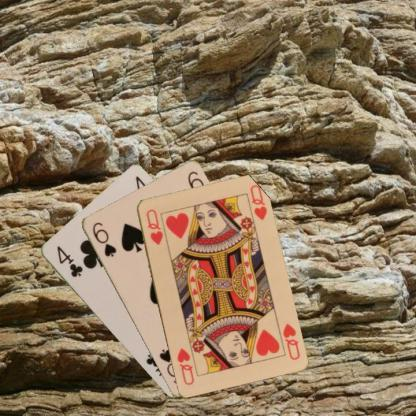4c: (54, 243, 84, 278)
6s: (90, 219, 117, 258)
Qh: (143, 206, 164, 246), (280, 321, 301, 361)
